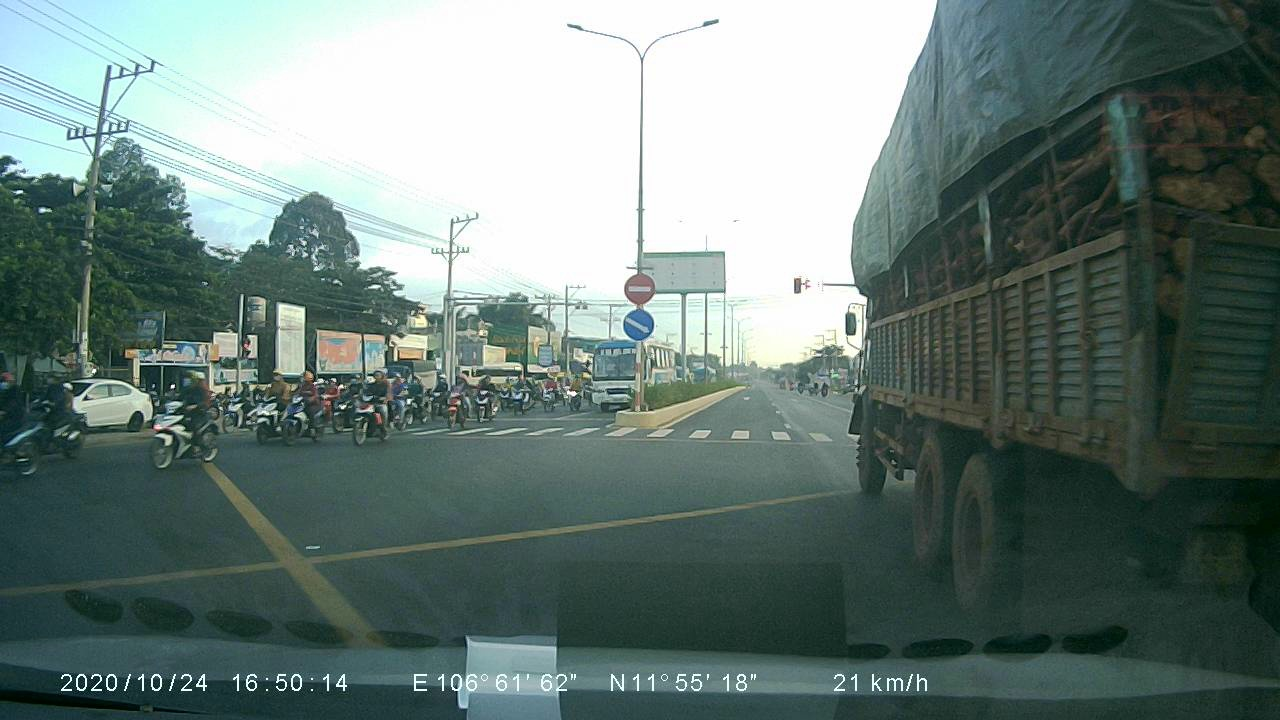Cam di nguoc chieu: (622, 270, 658, 303)
Huong di phai re phai: (619, 307, 656, 338)
